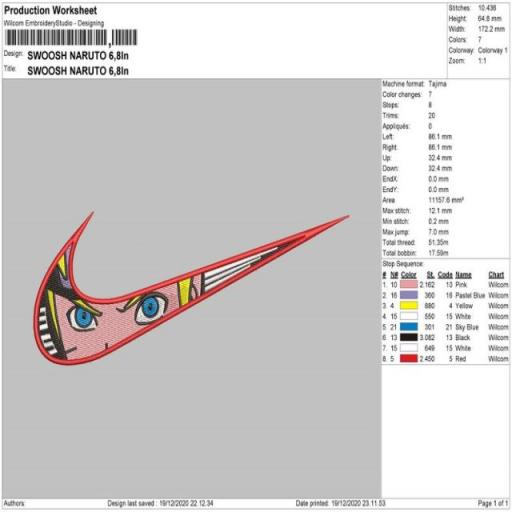Nike: (34, 232, 313, 368)
